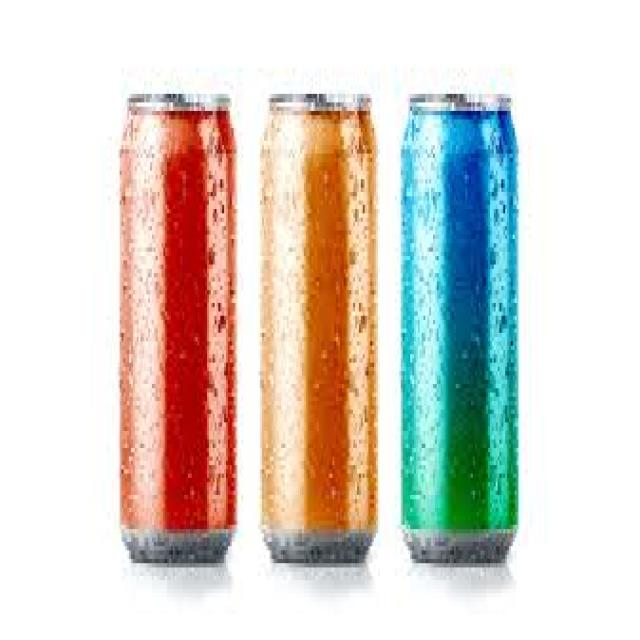Cans: (253, 77, 393, 572), (112, 73, 243, 580), (393, 94, 526, 572)
